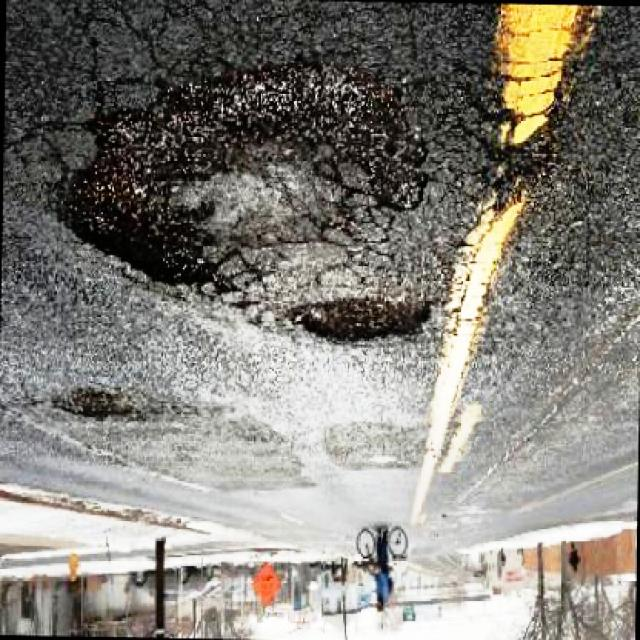pothole: (49, 42, 442, 286), (295, 278, 451, 352), (54, 380, 181, 423)
